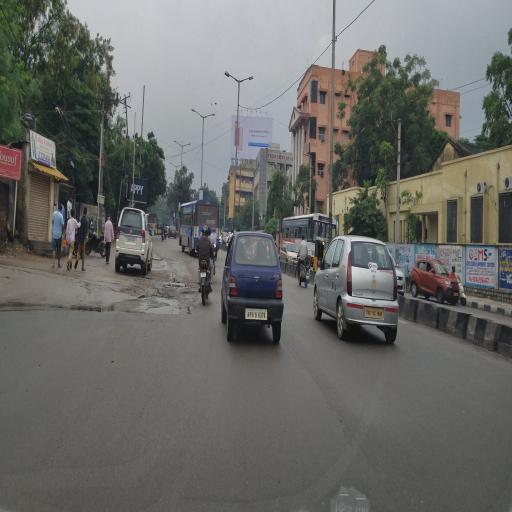street_light_0: (220, 63, 239, 95), (237, 66, 257, 94), (188, 103, 204, 126), (169, 132, 184, 156), (180, 133, 194, 156), (202, 106, 218, 126)
